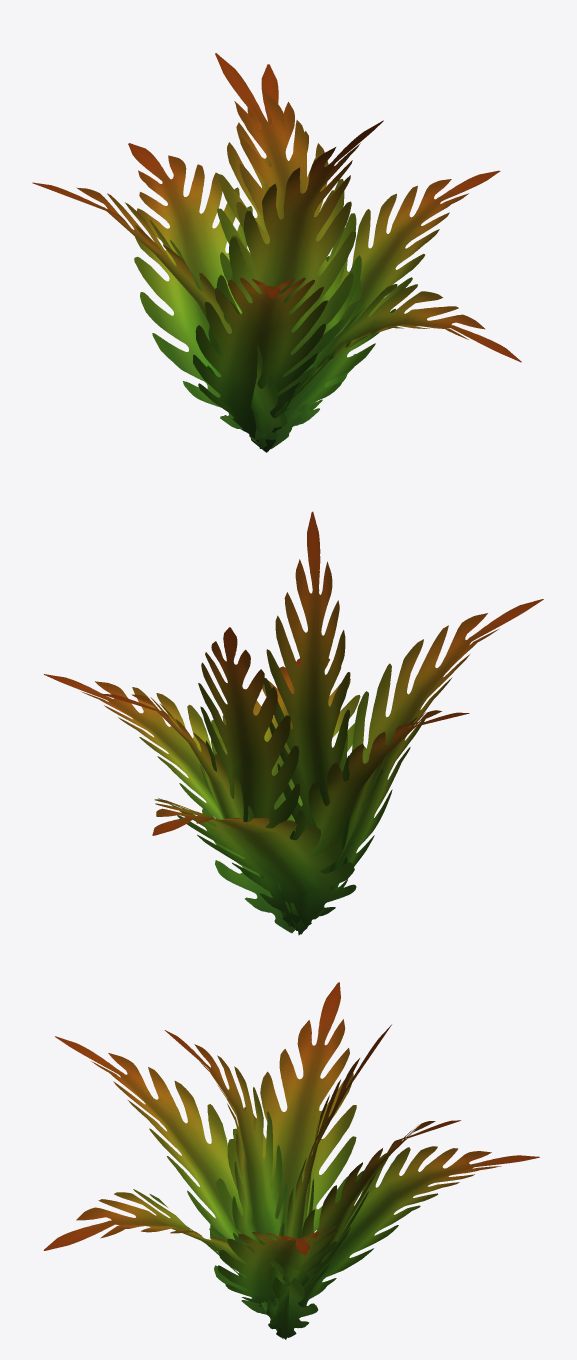
File: plant01.fbx
The picture shows the model from 3 angles, top to bottom: view 1: azimuth 30°, elevation 25°; view 2: azimuth 150°, elevation 25°; view 3: azimuth 270°, elevation 25°; orthographic projection. The views are drawn at different scales.
Parts seen in each view (by area): view 1: plant01; view 2: plant01; view 3: plant01.
Boxes of the visible parts, x1,y1,x2,y2 form: plant01: (32,53,521,452); plant01: (44,511,543,935); plant01: (43,982,539,1339).
Bounding box in the file's own units: 1.94 × 2.27 × 1.62.
